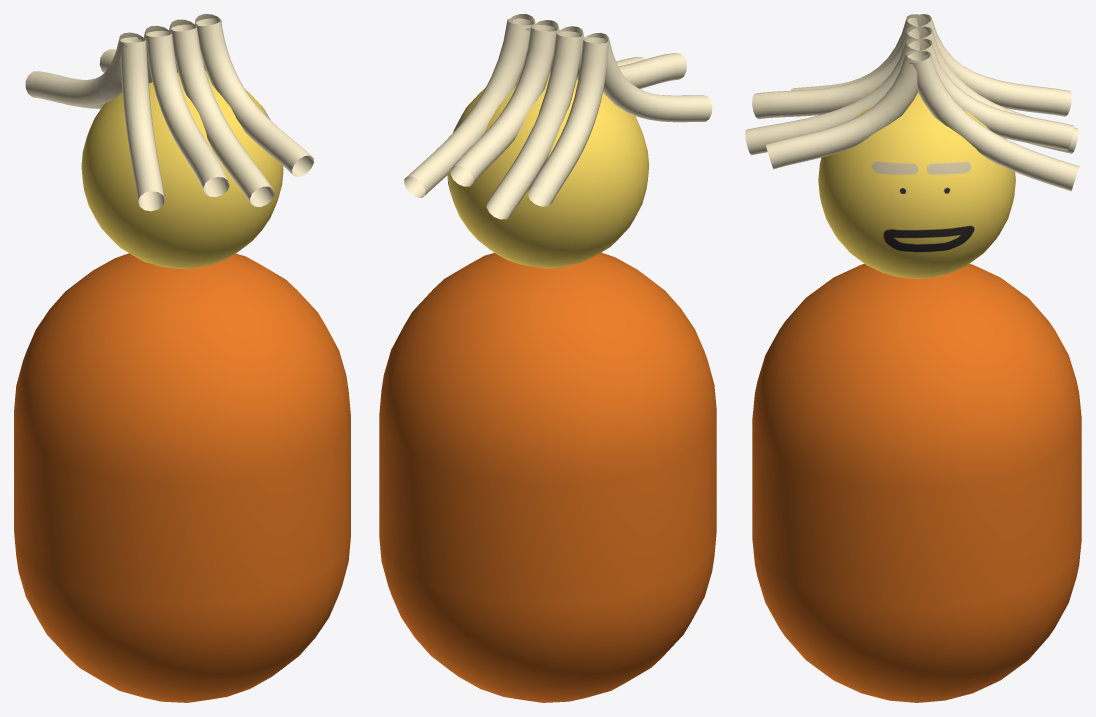
Rendered from cam_people_5.glb.
3 views of the same model, side by side, from view 1: azimuth 30°, elevation 25°; view 2: azimuth 150°, elevation 25°; view 3: azimuth 270°, elevation 25° (orthographic). The views are drawn at different scales.
Parts seen in each view (by area): view 1: Roundcube, Roundcube.006, BézierCurve, BézierCurve.003, BézierCurve.002, BézierCurve.004, BézierCurve.007; view 2: Roundcube, Roundcube.006, BézierCurve.006, BézierCurve.005, BézierCurve.007, BézierCurve.001, BézierCurve.004, BézierCurve.002; view 3: Roundcube, Roundcube.006, BézierCurve.005, BézierCurve.003, BézierCurve.002, BézierCurve.001, BézierCurve.007, BézierCurve, BézierCurve.006, BézierCurve.004.
Part boxes in pixels (x1,y1,x2,y2): Roundcube: (14, 253, 350, 702); Roundcube.006: (81, 71, 283, 268); BézierCurve: (171, 24, 274, 206); BézierCurve.003: (194, 18, 313, 176); BézierCurve.002: (146, 30, 229, 196); BézierCurve.004: (120, 37, 164, 211); BézierCurve.007: (25, 32, 144, 105); Roundcube: (379, 252, 716, 702); Roundcube.006: (447, 72, 649, 268); BézierCurve.006: (486, 31, 582, 219); BézierCurve.005: (404, 18, 533, 197); BézierCurve.007: (527, 37, 609, 206); BézierCurve.001: (450, 25, 557, 186); BézierCurve.004: (582, 33, 712, 122); BézierCurve.002: (557, 26, 686, 88); Roundcube: (752, 264, 1081, 702); Roundcube.006: (818, 92, 1015, 278); BézierCurve.005: (907, 51, 1079, 191); BézierCurve.003: (765, 51, 929, 169); BézierCurve.002: (752, 26, 930, 118); BézierCurve.001: (908, 39, 1074, 150); BézierCurve.007: (907, 14, 1071, 116); BézierCurve: (745, 39, 930, 155); BézierCurve.006: (908, 26, 1078, 153); BézierCurve.004: (790, 14, 930, 90).
Bounding box in the file's own units: 1 × 2.16 × 1.02.
Materials: 3 (1 with a texture image).
